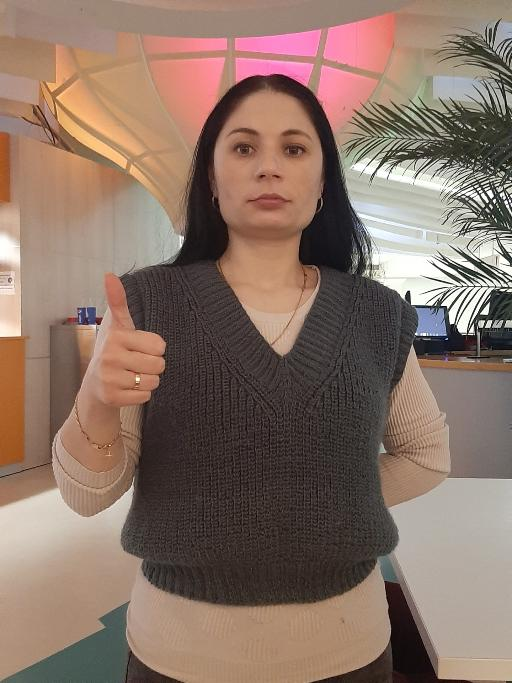like: (79, 272, 169, 410)
